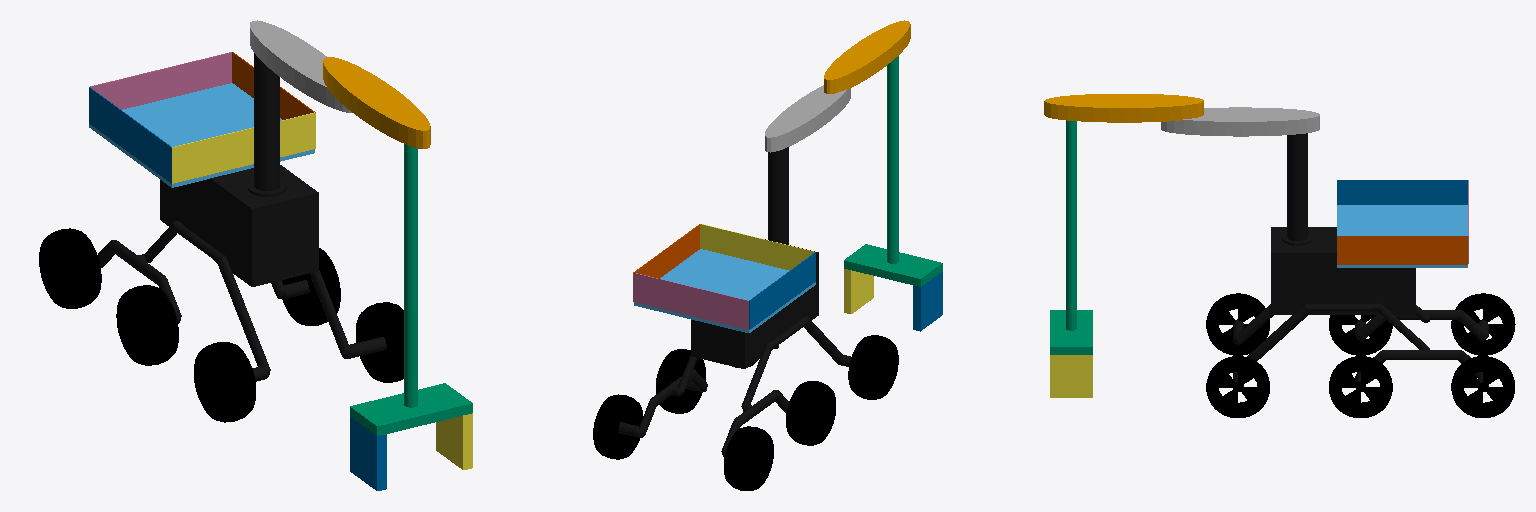
The robot description file, URDF, robot "rover":
<?xml version="1.0"?>
<robot name="rover" version="1.0">
  <joint name="Cube_link_joint" type="fixed">
    <origin rpy="0.00000 0.00000 3.14159" xyz="0.01689 0.39823 1.10641"/>
    <parent link="base_link"/>
    <child link="Cube_link"/>
  </joint>
  <joint name="Cube.001_link_joint" type="fixed">
    <origin rpy="1.57080 0.00000 -0.00000" xyz="0.00000 0.75000 0.75000"/>
    <parent link="Cube_link"/>
    <child link="Cube.001_link"/>
  </joint>
  <joint name="left_finger_link_joint" type="prismatic">
    <limit lower="0.00000" upper="0.25000" effort="0.00000" velocity="0.00000"/>
    <origin rpy="-0.00000 -1.57080 0.00000" xyz="-0.45000 0.00000 -0.45000"/>
    <parent link="Gripper_base_link"/>
    <child link="left_finger_link"/>
    <axis xyz="0.00000 0.00000 -1.00000"/>
  </joint>
  <joint name="right_finger_link_joint" type="prismatic">
    <limit lower="-0.25000" upper="0.00000" effort="0.00000" velocity="0.00000"/>
    <origin rpy="0.00000 1.57080 0.00000" xyz="0.45000 0.00000 -0.45000"/>
    <parent link="Gripper_base_link"/>
    <child link="right_finger_link"/>
    <axis xyz="0.00000 0.00000 1.00000"/>
  </joint>
  <joint name="left_back_wheel_link_joint" type="continuous">
    <limit effort="0.00000" velocity="0.00000"/>
    <origin rpy="3.14159 -1.57080 0.00000" xyz="0.86407 1.32298 -0.40486"/>
    <parent link="base_link"/>
    <child link="left_back_wheel_link"/>
    <axis xyz="0.00000 0.00000 1.00000"/>
  </joint>
  <joint name="left_front_wheel_link_joint" type="continuous">
    <limit effort="0.00000" velocity="0.00000"/>
    <origin rpy="3.14159 -1.57080 0.00000" xyz="0.86407 -1.48119 -0.40486"/>
    <parent link="base_link"/>
    <child link="left_front_wheel_link"/>
    <axis xyz="0.00000 0.00000 1.00000"/>
  </joint>
  <joint name="middle_left_wheel_link_joint" type="continuous">
    <limit effort="0.00000" velocity="0.00000"/>
    <origin rpy="3.14159 -1.57080 0.00000" xyz="0.86407 -0.07911 -0.40486"/>
    <parent link="base_link"/>
    <child link="middle_left_wheel_link"/>
    <axis xyz="0.00000 0.00000 1.00000"/>
  </joint>
  <joint name="midle_right wheel_link_joint" type="continuous">
    <limit effort="0.00000" velocity="0.00000"/>
    <origin rpy="-0.00000 1.57080 0.00000" xyz="-0.82983 -0.07911 -0.40486"/>
    <parent link="base_link"/>
    <child link="midle_right_wheel_link"/>
    <axis xyz="0.00000 0.00000 1.00000"/>
  </joint>
  <joint name="right_back_wheel_link_joint" type="continuous">
    <limit effort="0.00000" velocity="0.00000"/>
    <origin rpy="-0.00000 1.57080 0.00000" xyz="-0.82983 1.32298 -0.40486"/>
    <parent link="base_link"/>
    <child link="right_back_wheel_link"/>
    <axis xyz="0.00000 0.00000 1.00000"/>
  </joint>
  <joint name="right_front_heel_link_joint" type="continuous">
    <limit effort="0.00000" velocity="0.00000"/>
    <origin rpy="-0.00000 1.57080 0.00000" xyz="-0.82983 -1.48119 -0.40486"/>
    <parent link="base_link"/>
    <child link="right_front_heel_link"/>
    <axis xyz="0.00000 0.00000 1.00000"/>
  </joint>
  <joint name="Cube.002_link_joint" type="fixed">
    <origin rpy="1.57080 0.00000 1.57080" xyz="0.75000 0.00000 0.75000"/>
    <parent link="Cube_link"/>
    <child link="Cube.002_link"/>
  </joint>
  <joint name="Cube.003_link_joint" type="fixed">
    <origin rpy="1.57080 0.00000 1.57080" xyz="-0.75000 0.00000 0.75000"/>
    <parent link="Cube_link"/>
    <child link="Cube.003_link"/>
  </joint>
  <joint name="Cube.004_link_joint" type="fixed">
    <origin rpy="1.57080 0.00000 -0.00000" xyz="0.00000 -0.75000 0.75000"/>
    <parent link="Cube_link"/>
    <child link="Cube.004_link"/>
  </joint>
  <joint name="arm1_link_joint" type="continuous">
    <limit effort="0.00000" velocity="0.00000"/>
    <origin rpy="0.00000 0.00000 0.00000" xyz="0.00511 -0.79221 2.45294"/>
    <parent link="base_link"/>
    <child link="arm1_link"/>
    <axis xyz="0.00000 0.00000 1.00000"/>
  </joint>
  <joint name="arm2_link_joint" type="revolute">
    <limit lower="-2.62000" upper="2.62000" effort="0.00000" velocity="0.00000"/>
    <origin rpy="0.00000 0.00000 0.00000" xyz="-0.00000 -1.37934 0.17516"/>
    <parent link="arm1_link"/>
    <child link="arm2_link"/>
    <axis xyz="0.00000 0.00000 1.00000"/>
  </joint>
  <joint name="gripper_rod.001_link_joint" type="continuous">
    <limit effort="0.00000" velocity="0.00000"/>
    <origin rpy="0.00000 0.00000 -0.00000" xyz="-0.00000 -1.20684 0.09373"/>
    <parent link="arm2_link"/>
    <child link="gripper_rod.001_link"/>
    <axis xyz="0.00000 0.00000 1.00000"/>
  </joint>
  <joint name="Cylinder_link_joint" type="prismatic">
    <limit lower="0.00000" upper="2.40000" effort="0.00000" velocity="0.00000"/>
    <origin rpy="0.00000 0.00000 3.14159" xyz="0.01179 -0.01166 -1.39007"/>
    <parent link="gripper_rod.001_link"/>
    <child link="Cylinder_link"/>
    <axis xyz="0.00000 0.00000 1.00000"/>
  </joint>
  <joint name="Gripper_base_link_joint" type="fixed">
    <origin rpy="0.00000 0.00000 -0.00000" xyz="0.00000 0.00000 -1.43956"/>
    <parent link="Cylinder_link"/>
    <child link="Gripper_base_link"/>
  </joint>
  <link name="base_link">
    <collision name="base.002_collision">
      <origin rpy="0.00000 0.00000 0.00000" xyz="0.00080 -0.79381 1.74991"/>
      <geometry>
        <cylinder radius="0.11924" length="1.36590"/>
      </geometry>
    </collision>
    <collision name="base_collision">
      <origin rpy="0.00000 0.00000 0.00000" xyz="0.00094 -0.27566 0.67515"/>
      <geometry>
        <box size="0.66927 1.65373 0.76887"/>
      </geometry>
    </collision>
    <inertial>
      <inertia ixx="35.87325" ixy="0.01179" ixz="0.35204" iyy="28.19819" iyz="-4.58962" izz="14.42189"/>
      <origin rpy="0.00000 0.00000 0.00000" xyz="0.01505 -0.17615 0.70136"/>
      <mass value="40.00000"/>
    </inertial>
    <visual name="arm_base">
      <material name="Material.001"/>
      <origin rpy="0.00000 0.00000 0.00000" xyz="-0.00000 -0.00000 0.00000"/>
      <geometry>
        <mesh filename="../meshes/dae/Cylinder.013.dae" scale="-0.11826 -0.11826 -0.02102"/>
      </geometry>
    </visual>
    <visual name="base">
      <material name="Material.001"/>
      <origin rpy="0.00000 0.00000 0.00000" xyz="-0.00000 -0.00000 0.00000"/>
      <geometry>
        <mesh filename="../meshes/dae/Cylinder.002.dae" scale="-0.11826 -0.11826 -0.02102"/>
      </geometry>
    </visual>
    <visual name="base.001">
      <material name="None"/>
      <origin rpy="0.00000 0.00000 0.00000" xyz="-0.00000 -0.00000 0.00000"/>
      <geometry>
        <mesh filename="../meshes/dae/Cylinder.001.dae" scale="-0.11826 -0.11826 -0.02102"/>
      </geometry>
    </visual>
  </link>
  <link name="Cube_link">
    <collision name="Cube_collision">
      <origin rpy="0.00000 0.00000 -0.00000" xyz="0.00000 0.00000 -0.00000"/>
      <geometry>
        <box size="1.50000 1.50000 0.10000"/>
      </geometry>
    </collision>
    <visual name="wall">
      <material name="None"/>
      <origin rpy="0.00000 0.00000 -0.00000" xyz="0.00000 0.00000 -0.00000"/>
      <geometry>
        <box size="1.50000 1.50000 0.10000"/>
      </geometry>
    </visual>
  </link>
  <link name="Gripper_base_link">
    <collision name="Gripper_base_collision.000">
      <origin rpy="0.00000 0.00000 0.00000" xyz="0.00000 0.00000 0.00000"/>
      <geometry>
        <mesh filename="../meshes/dae/Cube.dae" scale="0.50000 0.25000 0.05000"/>
      </geometry>
    </collision>
    <inertial>
      <inertia ixx="0.02167" ixy="0.00000" ixz="0.00000" iyy="0.08417" iyz="0.00000" izz="0.10417"/>
      <origin rpy="0.00000 0.00000 0.00000" xyz="0.00000 0.00000 0.00000"/>
      <mass value="1.00000"/>
    </inertial>
    <visual name="Gripper_base">
      <material name="None"/>
      <origin rpy="0.00000 0.00000 0.00000" xyz="0.00000 0.00000 0.00000"/>
      <geometry>
        <mesh filename="../meshes/dae/Cube.dae" scale="0.50000 0.25000 0.05000"/>
      </geometry>
    </visual>
  </link>
  <link name="left_finger_link">
    <collision name="left finger_collision">
      <origin rpy="-3.14159 0.00000 -3.14159" xyz="0.12500 -0.00000 0.00000"/>
      <geometry>
        <box size="0.55000 0.50000 0.10000"/>
      </geometry>
    </collision>
    <inertial>
      <inertia ixx="0.04604" ixy="0.00000" ixz="0.00000" iyy="0.02604" iyz="0.00000" izz="0.02167"/>
      <origin rpy="0.00000 0.00000 0.00000" xyz="0.12500 -0.00000 0.00000"/>
      <mass value="1.00000"/>
    </inertial>
    <visual name="left finger">
      <material name="None"/>
      <origin rpy="-3.14159 0.00000 -3.14159" xyz="-0.00000 -0.00000 -0.00000"/>
      <geometry>
        <mesh filename="../meshes/dae/Cube.012.dae" scale="0.40000 0.25000 0.05000"/>
      </geometry>
    </visual>
  </link>
  <link name="right_finger_link">
    <collision name="right_finger_collision">
      <origin rpy="0.00000 0.00000 0.00000" xyz="-0.12500 -0.00000 0.00908"/>
      <geometry>
        <box size="0.55000 0.50000 0.10000"/>
      </geometry>
    </collision>
    <inertial>
      <inertia ixx="0.04604" ixy="0.00000" ixz="0.00000" iyy="0.02604" iyz="0.00000" izz="0.02167"/>
      <origin rpy="0.00000 0.00000 0.00000" xyz="-0.12500 -0.00000 -0.00000"/>
      <mass value="1.00000"/>
    </inertial>
    <visual name="right_finger">
      <material name="None"/>
      <origin rpy="0.00000 0.00000 -0.00000" xyz="0.00000 -0.00000 -0.00000"/>
      <geometry>
        <mesh filename="../meshes/dae/Cube.011.dae" scale="0.40000 0.25000 0.05000"/>
      </geometry>
    </visual>
  </link>
  <link name="left_back_wheel_link">
    <collision name="left_back_wheel_collision">
      <origin rpy="0.00000 0.00000 -0.00000" xyz="-0.00000 0.00000 0.00000"/>
      <geometry>
        <mesh filename="../meshes/dae/Torus.001.dae" scale="0.29444 0.29444 0.62774"/>
      </geometry>
    </collision>
    <inertial>
      <inertia ixx="0.18734" ixy="0.00000" ixz="0.00000" iyy="0.10770" iyz="0.00000" izz="0.10770"/>
      <origin rpy="0.00000 0.00000 0.00000" xyz="-0.00000 0.00000 0.00000"/>
      <mass value="3.00000"/>
    </inertial>
    <visual name="left_back_wheel">
      <material name="Material"/>
      <origin rpy="0.00000 -0.00000 -0.00000" xyz="-0.00000 0.00000 0.00000"/>
      <geometry>
        <mesh filename="../meshes/dae/Torus.001.dae" scale="0.29444 0.29444 0.62774"/>
      </geometry>
    </visual>
  </link>
  <link name="left_front_wheel_link">
    <collision name="left_front_wheel_collision">
      <origin rpy="0.00400 -0.00026 0.05996" xyz="-0.00000 0.00000 0.00000"/>
      <geometry>
        <mesh filename="../meshes/dae/Torus.005.dae" scale="0.29444 0.29444 0.62774"/>
      </geometry>
    </collision>
    <inertial>
      <inertia ixx="0.18734" ixy="0.00000" ixz="0.00000" iyy="0.10770" iyz="0.00000" izz="0.10770"/>
      <origin rpy="0.00000 0.00000 0.00000" xyz="-0.00000 0.00000 0.00000"/>
      <mass value="3.00000"/>
    </inertial>
    <visual name="left_front_wheel">
      <material name="Material"/>
      <origin rpy="-0.00000 0.00000 -0.00000" xyz="-0.00000 0.00000 0.00000"/>
      <geometry>
        <mesh filename="../meshes/dae/Torus.005.dae" scale="0.29444 0.29444 0.62774"/>
      </geometry>
    </visual>
  </link>
  <link name="middle_left_wheel_link">
    <collision name="middle_left_wheel_collision">
      <origin rpy="-0.00462 0.00023 0.05667" xyz="-0.00000 0.00000 -0.00000"/>
      <geometry>
        <mesh filename="../meshes/dae/Torus.002.dae" scale="0.29444 0.29444 0.62774"/>
      </geometry>
    </collision>
    <inertial>
      <inertia ixx="0.18734" ixy="0.00037" ixz="0.00000" iyy="0.10770" iyz="0.00000" izz="0.10770"/>
      <origin rpy="0.00000 0.00000 0.00000" xyz="0.00000 0.00000 -0.00000"/>
      <mass value="3.00000"/>
    </inertial>
    <visual name="middle_left_wheel">
      <material name="Material"/>
      <origin rpy="-0.00000 -0.00000 0.00000" xyz="-0.00000 0.00000 0.00000"/>
      <geometry>
        <mesh filename="../meshes/dae/Torus.002.dae" scale="0.29444 0.29444 0.62774"/>
      </geometry>
    </visual>
  </link>
  <link name="midle_right_wheel_link">
    <collision name="midle_right wheel_collision">
      <origin rpy="0.00000 0.00000 0.00000" xyz="-0.00000 -0.00000 0.00000"/>
      <geometry>
        <mesh filename="../meshes/dae/Torus.003.dae" scale="-0.29444 -0.29444 -0.62774"/>
      </geometry>
    </collision>
    <inertial>
      <inertia ixx="0.18734" ixy="-0.00000" ixz="0.00000" iyy="0.10770" iyz="0.00000" izz="0.10770"/>
      <origin rpy="0.00000 0.00000 0.00000" xyz="0.00000 -0.00000 0.00000"/>
      <mass value="3.00000"/>
    </inertial>
    <visual name="midle_right wheel">
      <material name="Material"/>
      <origin rpy="-0.00000 -0.00000 -0.00000" xyz="0.00000 -0.00000 0.00000"/>
      <geometry>
        <mesh filename="../meshes/dae/Torus.003.dae" scale="-0.29444 -0.29444 -0.62774"/>
      </geometry>
    </visual>
  </link>
  <link name="right_back_wheel_link">
    <collision name="right_back_wheel_collision">
      <origin rpy="0.00000 0.00000 0.00000" xyz="0.00000 -0.00000 -0.00000"/>
      <geometry>
        <mesh filename="../meshes/dae/Torus.dae" scale="-0.29444 -0.29444 -0.62774"/>
      </geometry>
    </collision>
    <inertial>
      <inertia ixx="0.18734" ixy="-0.00000" ixz="0.00000" iyy="0.10770" iyz="0.00000" izz="0.10770"/>
      <origin rpy="0.00000 0.00000 0.00000" xyz="0.00000 -0.00000 -0.00000"/>
      <mass value="3.00000"/>
    </inertial>
    <visual name="right_back_wheel">
      <material name="Material"/>
      <origin rpy="0.00000 -0.00000 -0.00000" xyz="0.00000 -0.00000 -0.00000"/>
      <geometry>
        <mesh filename="../meshes/dae/Torus.dae" scale="-0.29444 -0.29444 -0.62774"/>
      </geometry>
    </visual>
  </link>
  <link name="right_front_heel_link">
    <collision name="right_front_heel_collision">
      <origin rpy="-0.00011 0.00002 0.06324" xyz="0.00000 -0.00000 -0.00000"/>
      <geometry>
        <mesh filename="../meshes/dae/Torus.004.dae" scale="-0.29444 -0.29444 -0.62774"/>
      </geometry>
    </collision>
    <inertial>
      <inertia ixx="0.18734" ixy="-0.00000" ixz="0.00000" iyy="0.10770" iyz="0.00000" izz="0.10770"/>
      <origin rpy="0.00000 0.00000 0.00000" xyz="0.00000 -0.00000 0.00000"/>
      <mass value="3.00000"/>
    </inertial>
    <visual name="right_front_heel">
      <material name="Material"/>
      <origin rpy="0.00000 0.00000 0.00000" xyz="0.00000 -0.00000 -0.00000"/>
      <geometry>
        <mesh filename="../meshes/dae/Torus.004.dae" scale="-0.29444 -0.29444 -0.62774"/>
      </geometry>
    </visual>
  </link>
  <link name="Cube.001_link">
    <collision name="Cube.001_collision">
      <origin rpy="0.00000 0.00000 0.00000" xyz="0.00000 -0.55517 -0.00000"/>
      <geometry>
        <box size="1.50000 0.36183 0.10000"/>
      </geometry>
    </collision>
    <visual name="wall1">
      <material name="None"/>
      <origin rpy="0.00000 0.00000 0.00000" xyz="0.00000 -0.57508 -0.00000"/>
      <geometry>
        <box size="1.50000 0.36183 0.01000"/>
      </geometry>
    </visual>
  </link>
  <link name="Cube.002_link">
    <collision name="Cube.002_collision">
      <origin rpy="0.00000 0.00000 0.00000" xyz="0.00000 -0.56306 0.00000"/>
      <geometry>
        <box size="1.50000 0.36183 0.10000"/>
      </geometry>
    </collision>
    <visual name="wall2">
      <material name="None"/>
      <origin rpy="0.00000 0.00000 0.00000" xyz="-0.00000 -0.57508 -0.00000"/>
      <geometry>
        <box size="1.50000 0.36183 0.01000"/>
      </geometry>
    </visual>
  </link>
  <link name="Cube.003_link">
    <collision name="Cube.003_collision">
      <origin rpy="0.00000 0.00000 0.00000" xyz="0.00000 -0.56370 0.00000"/>
      <geometry>
        <box size="1.50000 0.36183 0.10000"/>
      </geometry>
    </collision>
    <visual name="wall3">
      <material name="None"/>
      <origin rpy="0.00000 0.00000 0.00000" xyz="-0.00000 -0.57508 0.00000"/>
      <geometry>
        <box size="1.50000 0.36183 0.01000"/>
      </geometry>
    </visual>
  </link>
  <link name="Cube.004_link">
    <collision name="Cube.004_collision">
      <origin rpy="0.00000 0.00000 0.00000" xyz="0.00000 -0.55939 0.00000"/>
      <geometry>
        <box size="1.50000 0.36183 0.10000"/>
      </geometry>
    </collision>
    <visual name="wall4">
      <material name="None"/>
      <origin rpy="0.00000 0.00000 0.00000" xyz="0.00000 -0.57508 -0.00000"/>
      <geometry>
        <box size="1.50000 0.36183 0.01000"/>
      </geometry>
    </visual>
  </link>
  <link name="arm1_link">
    <collision name="arm1_collision">
      <origin rpy="0.00000 0.00000 -0.00000" xyz="-0.00000 -0.66089 0.00000"/>
      <geometry>
        <mesh filename="../meshes/dae/Cylinder.003.dae" scale="-0.19690 -0.91222 -0.00278"/>
      </geometry>
    </collision>
    <inertial>
      <inertia ixx="0.62861" ixy="0.00000" ixz="0.00000" iyy="0.03739" iyz="0.00000" izz="0.64900"/>
      <origin rpy="0.00000 0.00000 0.00000" xyz="-0.00000 -0.66089 0.08942"/>
      <mass value="3.00000"/>
    </inertial>
    <visual name="arm1">
      <material name="None"/>
      <origin rpy="0.00000 0.00000 -0.00000" xyz="-0.00000 -0.66089 0.00000"/>
      <geometry>
        <mesh filename="../meshes/dae/Cylinder.003.dae" scale="-0.19690 -0.91222 -0.00278"/>
      </geometry>
    </visual>
  </link>
  <link name="arm2_link">
    <collision name="arm2_collision">
      <origin rpy="0.00000 0.00000 -0.00000" xyz="-0.00000 -0.61400 0.00000"/>
      <geometry>
        <mesh filename="../meshes/dae/Cylinder.006.dae" scale="-0.19690 -0.91222 -0.00278"/>
      </geometry>
    </collision>
    <inertial>
      <inertia ixx="0.62861" ixy="0.00000" ixz="0.00000" iyy="0.03739" iyz="0.00000" izz="0.64900"/>
      <origin rpy="0.00000 0.00000 0.00000" xyz="-0.00000 -0.61400 0.08942"/>
      <mass value="3.00000"/>
    </inertial>
    <visual name="arm2">
      <material name="None"/>
      <origin rpy="0.00000 0.00000 -0.00000" xyz="-0.00000 -0.61400 0.00000"/>
      <geometry>
        <mesh filename="../meshes/dae/Cylinder.006.dae" scale="-0.19690 -0.91222 -0.00278"/>
      </geometry>
    </visual>
  </link>
  <link name="gripper_rod.001_link"/>
  <link name="Cylinder_link">
    <collision name="Cylinder_collision">
      <origin rpy="0.00000 0.00000 0.00000" xyz="-0.00000 0.00000 0.00000"/>
      <geometry>
        <mesh filename="../meshes/dae/Cylinder.016.dae" scale="0.06435 0.06435 1.45375"/>
      </geometry>
    </collision>
    <inertial>
      <inertia ixx="0.70549" ixy="0.00000" ixz="0.00000" iyy="0.70549" iyz="0.00000" izz="0.00206"/>
      <origin rpy="0.00000 0.00000 0.00000" xyz="-0.00000 0.00000 0.00000"/>
      <mass value="1.00000"/>
    </inertial>
    <visual name="gripper_rod">
      <material name="None"/>
      <origin rpy="0.00000 0.00000 0.00000" xyz="-0.00000 0.00000 0.00000"/>
      <geometry>
        <mesh filename="../meshes/dae/Cylinder.016.dae" scale="0.06435 0.06435 1.45375"/>
      </geometry>
    </visual>
  </link>
  <material name="Material">
    <color rgba="0.00000 0.00000 0.00000 1.00000"/>
  </material>
  <material name="Material.001">
    <color rgba="0.11373 0.11373 0.11373 1.00000"/>
  </material>
</robot>

--- What the picture shows (computed from the rendered views, not written in the file) ---
The picture shows the robot from 3 angles, left to right: view 1: azimuth 30°, elevation 25°; view 2: azimuth 150°, elevation 25°; view 3: azimuth 270°, elevation 25°; orthographic projection.
Model rover with 19 links and 18 joints (1 revolute, 8 continuous, 3 prismatic, 6 fixed), rooted at base_link, posed every joint at zero.
Links seen in each view (by area): view 1: base_link, Cube_link, arm2_link, Cube.001_link, midle_right_wheel_link, right_back_wheel_link, right_front_heel_link, Cube.004_link, arm1_link, Cylinder_link, Gripper_base_link, Cube.002_link (+5 smaller); view 2: base_link, Cube_link, Cube.004_link, arm2_link, arm1_link, right_front_heel_link, midle_right_wheel_link, right_back_wheel_link, Cube.001_link, Cylinder_link, left_back_wheel_link, Gripper_base_link (+5 smaller); view 3: base_link, Cube_link, arm2_link, Cube.003_link, arm1_link, Cube.002_link, middle_left_wheel_link, left_front_wheel_link, left_back_wheel_link, right_back_wheel_link, right_front_heel_link, Cylinder_link (+3 smaller).
Link boxes in pixels (bbox=[...]): base_link: bbox=[98, 53, 386, 381]; Cube_link: bbox=[89, 83, 314, 187]; arm2_link: bbox=[323, 57, 430, 148]; Cube.001_link: bbox=[172, 112, 315, 183]; midle_right_wheel_link: bbox=[116, 285, 178, 365]; right_back_wheel_link: bbox=[39, 228, 101, 308]; right_front_heel_link: bbox=[194, 342, 255, 422]; Cube.004_link: bbox=[90, 52, 231, 109]; arm1_link: bbox=[250, 20, 351, 112]; Cylinder_link: bbox=[404, 144, 417, 407]; Gripper_base_link: bbox=[350, 383, 472, 435]; Cube.002_link: bbox=[89, 87, 171, 183]; base_link: bbox=[618, 147, 850, 456]; Cube_link: bbox=[634, 249, 815, 332]; Cube.004_link: bbox=[633, 273, 748, 329]; arm2_link: bbox=[824, 20, 910, 93]; arm1_link: bbox=[765, 85, 850, 152]; right_front_heel_link: bbox=[848, 335, 898, 399]; midle_right_wheel_link: bbox=[786, 381, 835, 445]; right_back_wheel_link: bbox=[724, 426, 773, 490]; Cube.001_link: bbox=[700, 224, 814, 270]; Cylinder_link: bbox=[887, 56, 898, 263]; left_back_wheel_link: bbox=[593, 394, 642, 459]; Gripper_base_link: bbox=[844, 244, 942, 286]; base_link: bbox=[1233, 133, 1488, 386]; Cube_link: bbox=[1337, 205, 1467, 267]; arm2_link: bbox=[1044, 94, 1203, 122]; Cube.003_link: bbox=[1337, 236, 1467, 264]; arm1_link: bbox=[1161, 107, 1319, 136]; Cube.002_link: bbox=[1337, 180, 1467, 204]; middle_left_wheel_link: bbox=[1329, 356, 1392, 417]; left_front_wheel_link: bbox=[1206, 356, 1269, 417]; left_back_wheel_link: bbox=[1451, 356, 1514, 417]; right_back_wheel_link: bbox=[1451, 293, 1515, 355]; right_front_heel_link: bbox=[1206, 293, 1269, 355]; Cylinder_link: bbox=[1066, 120, 1076, 330].
Bounding box of the posed robot: 2.01 × 5.39 × 3.58 m (x, y, z).
14 mesh visuals loaded from 15 distinct referenced files (14 Collada DAE); not drawn: 1 (file found but could not be loaded).
